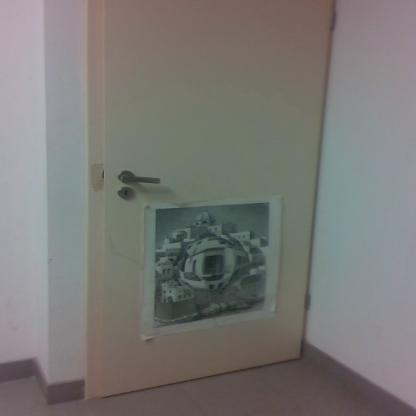door: (98, 0, 306, 370)
hinged: (304, 290, 314, 315), (326, 7, 336, 30)
lever: (121, 171, 167, 186)
